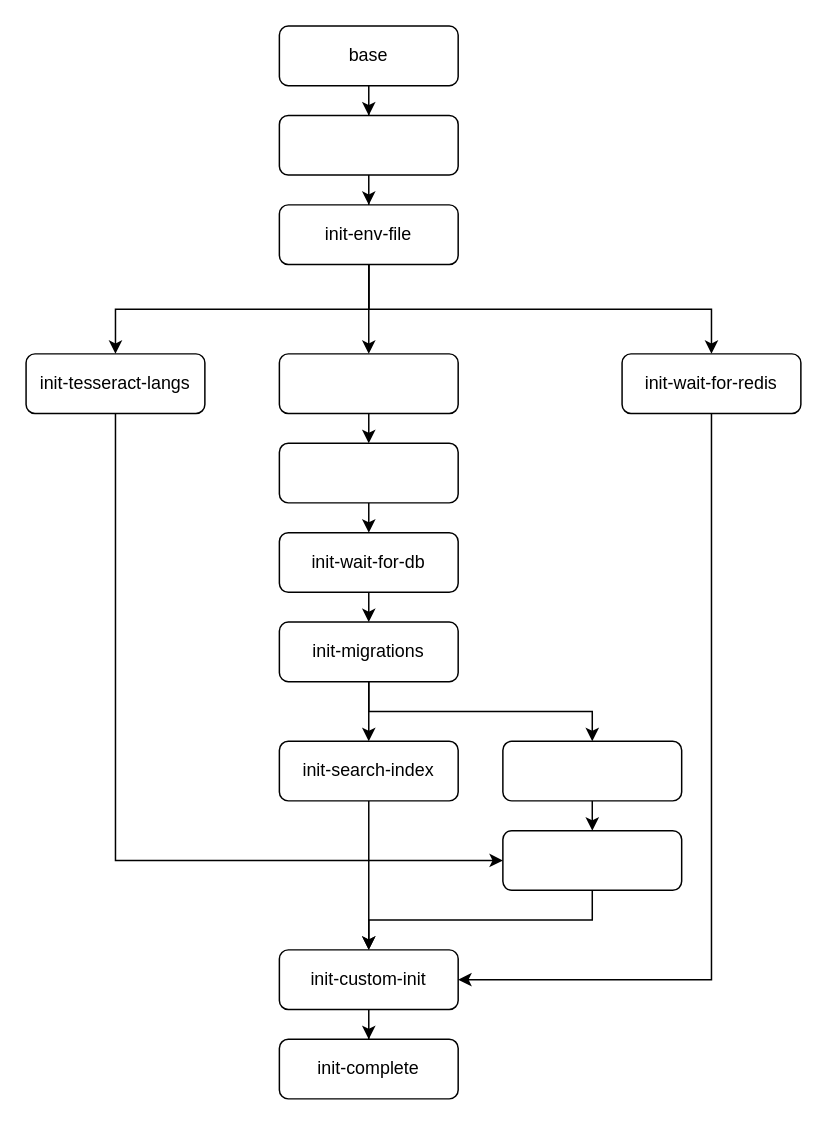
Image size: 827x1125. Some labels were removed from this diagram. The shapes that lost their labels are listed below. From the top down, each one's centre as x and y in pixels, then its label:
At [368,144]: "init-start".
At [368,382]: "init-modify-user".
At [368,472]: "init-folders".
At [591,770]: "init-super-user".
At [591,859]: "init-system-checks".
